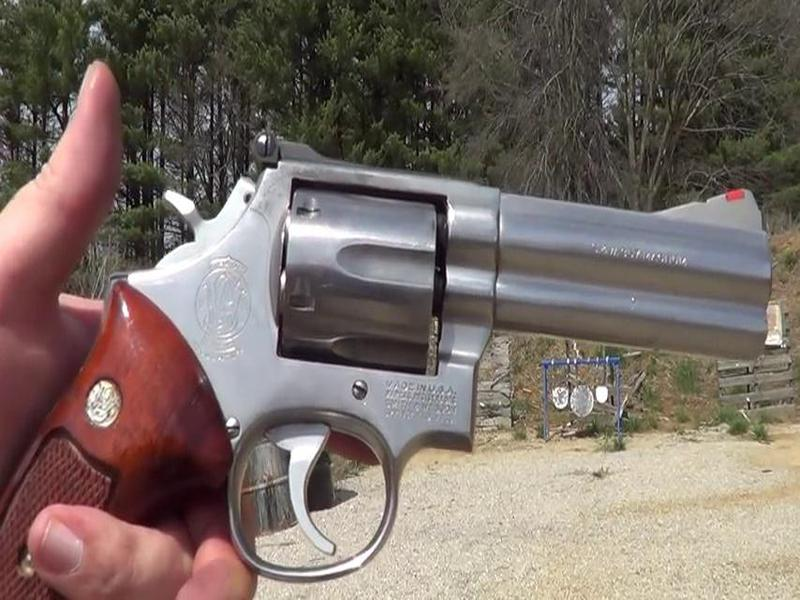Revolver: (43, 137, 786, 574)
